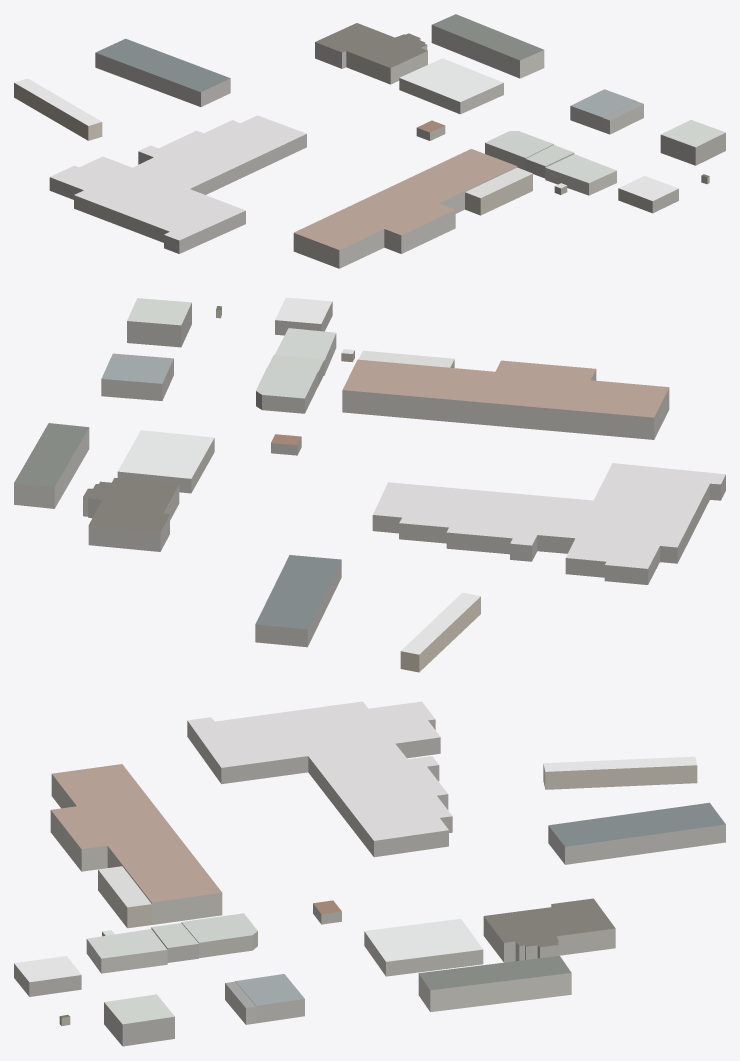
3 renders of one model, top to bottom at view 1: azimuth 30°, elevation 25°; view 2: azimuth 150°, elevation 25°; view 3: azimuth 270°, elevation 25°, orthographic. The views are drawn at different scales.
Visible parts, largest first — view 1: tuile; view 2: tuile; view 3: tuile.
Boxes of the visible parts, bbox=[...] form: tuile: bbox=[14, 14, 725, 268]; tuile: bbox=[14, 297, 725, 672]; tuile: bbox=[14, 701, 725, 1046].
Size of the model in its own units: 307 by 15.38 by 285.
